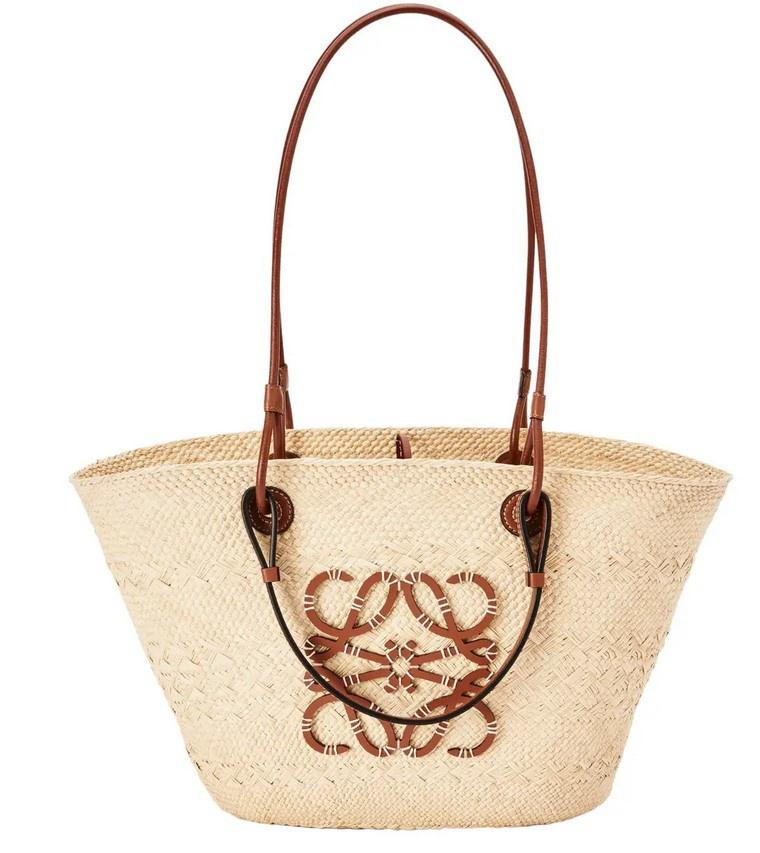LOEWE: (293, 551, 510, 771)
